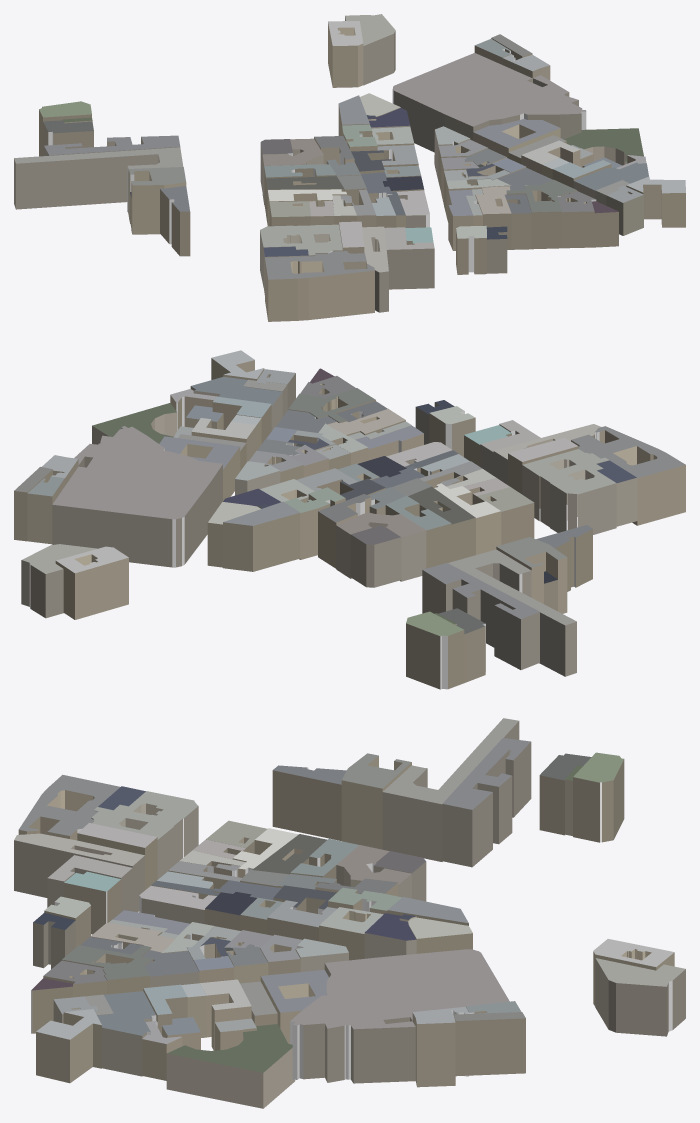
The picture shows the model from 3 angles, top to bottom: view 1: azimuth 30°, elevation 25°; view 2: azimuth 150°, elevation 25°; view 3: azimuth 270°, elevation 25°; orthographic projection. The views are drawn at different scales.
Visible parts, largest first — view 1: tuile; view 2: tuile; view 3: tuile.
Part boxes in pixels (bbox=[...]): tuile: bbox=[14, 14, 685, 321]; tuile: bbox=[14, 350, 685, 689]; tuile: bbox=[14, 718, 685, 1108].
Bounding box in the file's own units: 315 × 31.95 × 275.
